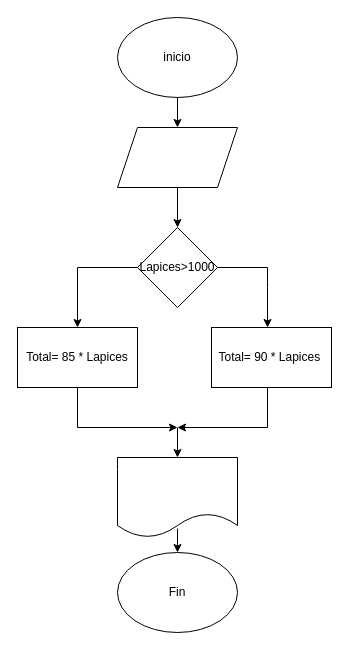
Some shapes in this 349 by 650 pixel diagram are drawn without their labels. Each missing label, with the centre of its shape:
"Lapices" goes at pixel 177 157.
"Total" goes at pixel 177 497.
